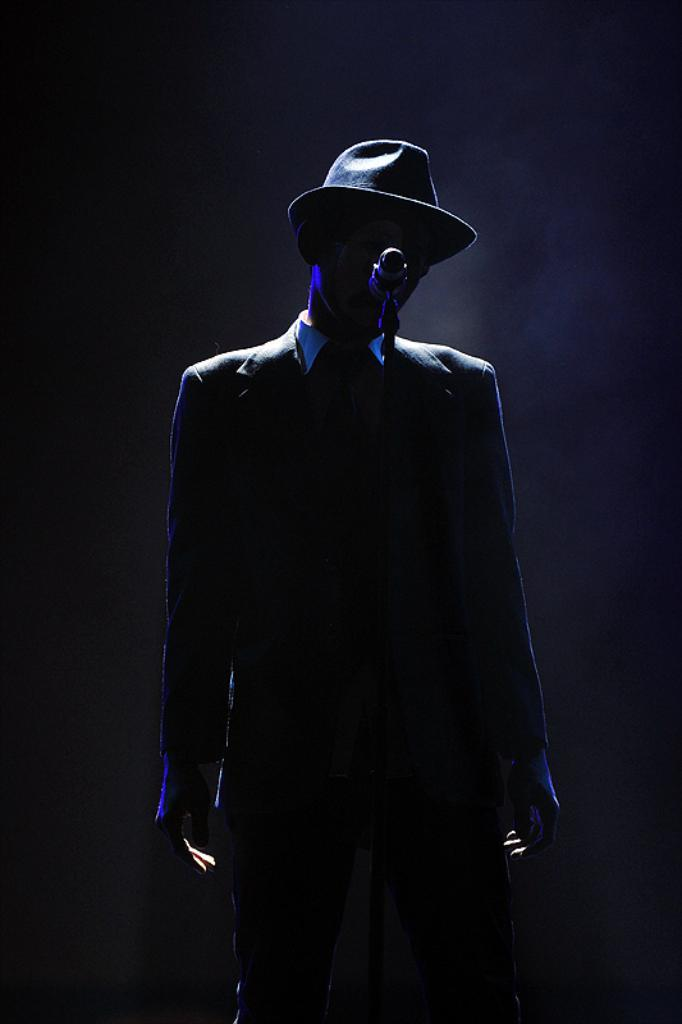Hat: (288, 138, 474, 268)
